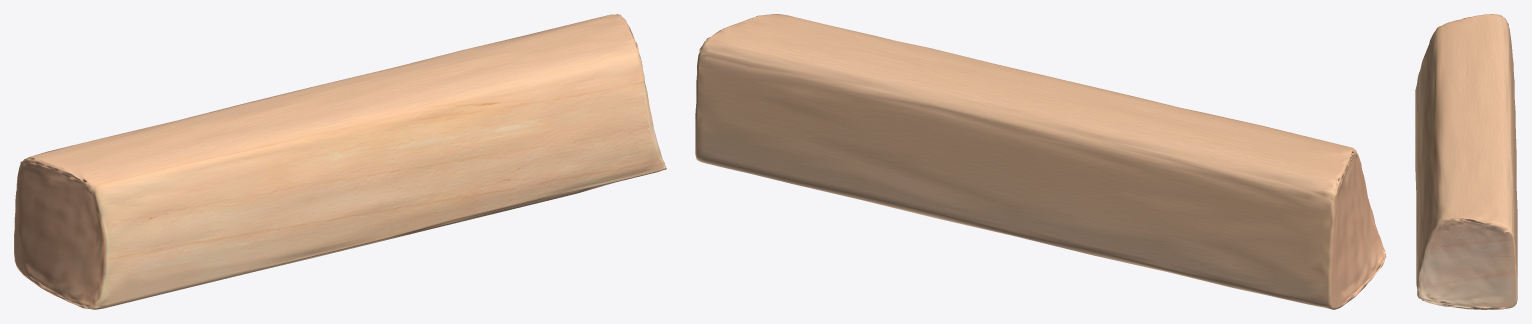
Rendered from selected.glb.
3 renders of one model, left to right at view 1: azimuth 30°, elevation 25°; view 2: azimuth 150°, elevation 25°; view 3: azimuth 270°, elevation 25°, orthographic. The views are drawn at different scales.
Visible parts, largest first — view 1: tripo_node_2ba9dfcf-71d1-4b1d-835c-dd8f2a656ef4; view 2: tripo_node_2ba9dfcf-71d1-4b1d-835c-dd8f2a656ef4; view 3: tripo_node_2ba9dfcf-71d1-4b1d-835c-dd8f2a656ef4.
Boxes of the visible parts, <box> form: tripo_node_2ba9dfcf-71d1-4b1d-835c-dd8f2a656ef4: <box>14,14,666,309</box>; tripo_node_2ba9dfcf-71d1-4b1d-835c-dd8f2a656ef4: <box>695,14,1386,309</box>; tripo_node_2ba9dfcf-71d1-4b1d-835c-dd8f2a656ef4: <box>1415,14,1517,309</box>.
Bounding box in the file's own units: 0.998 × 0.1973 × 0.2051.
1 material, 1 textured.
